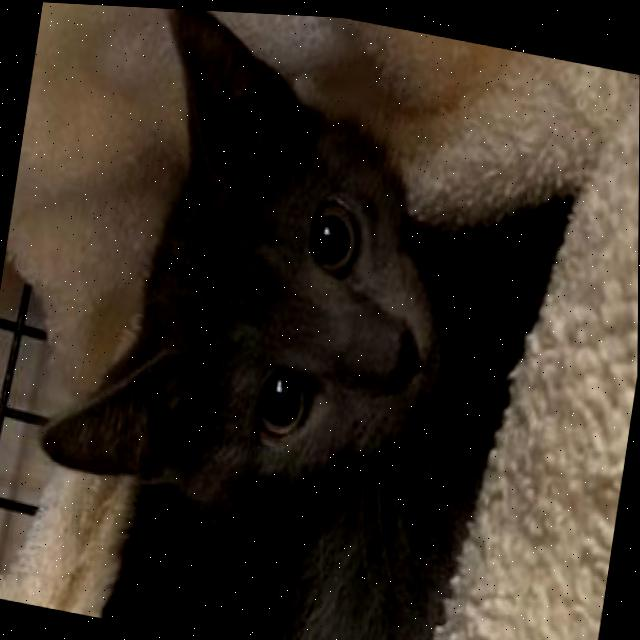Russian Blue: (12, 1, 586, 640)
